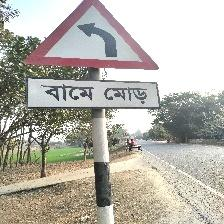Left-Turn: (21, 0, 161, 112)
